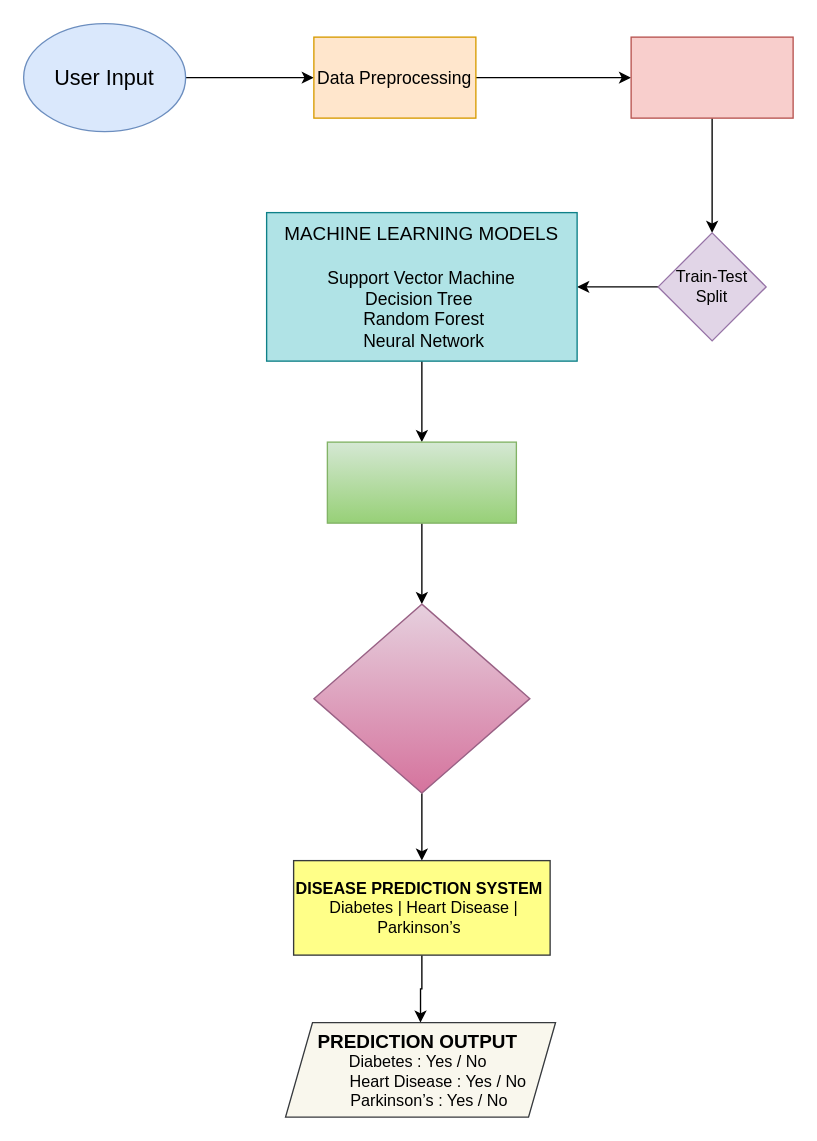
This 817x1141 diagram has some shape labels left out. Each missing label, with the centre of its shape:
BEST MODEL SELECTION Random Forest: [421,698]
Feature Selection: [711,77]
MODEL EVALUATION: [421,482]
